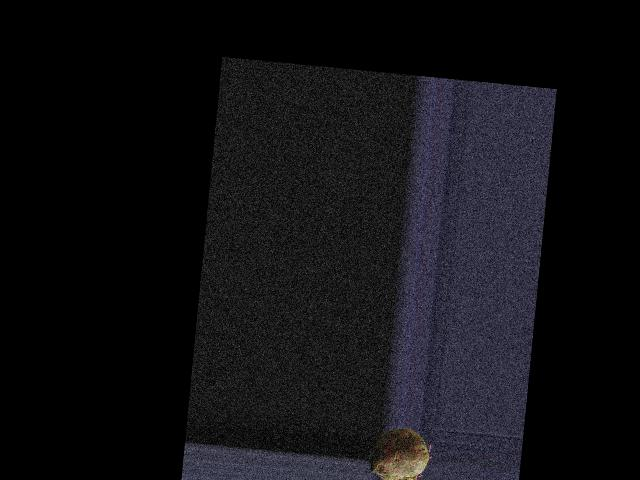beet: (366, 425, 433, 480)
